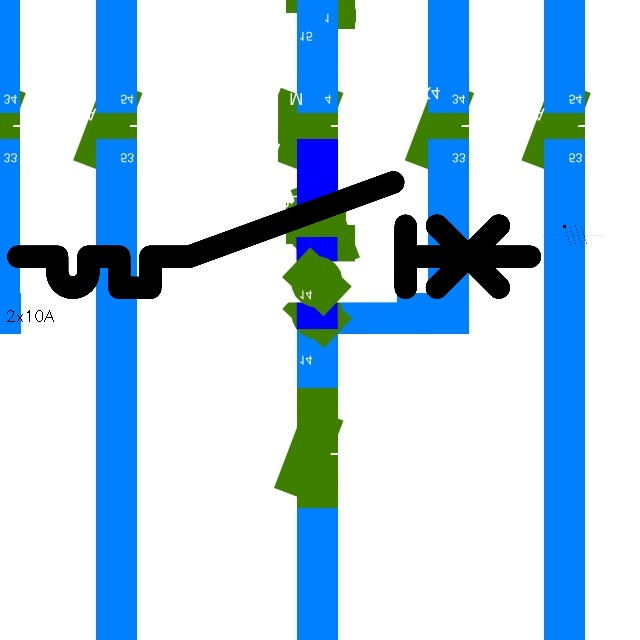interruptor_termomagnetico: (5, 169, 543, 301)
